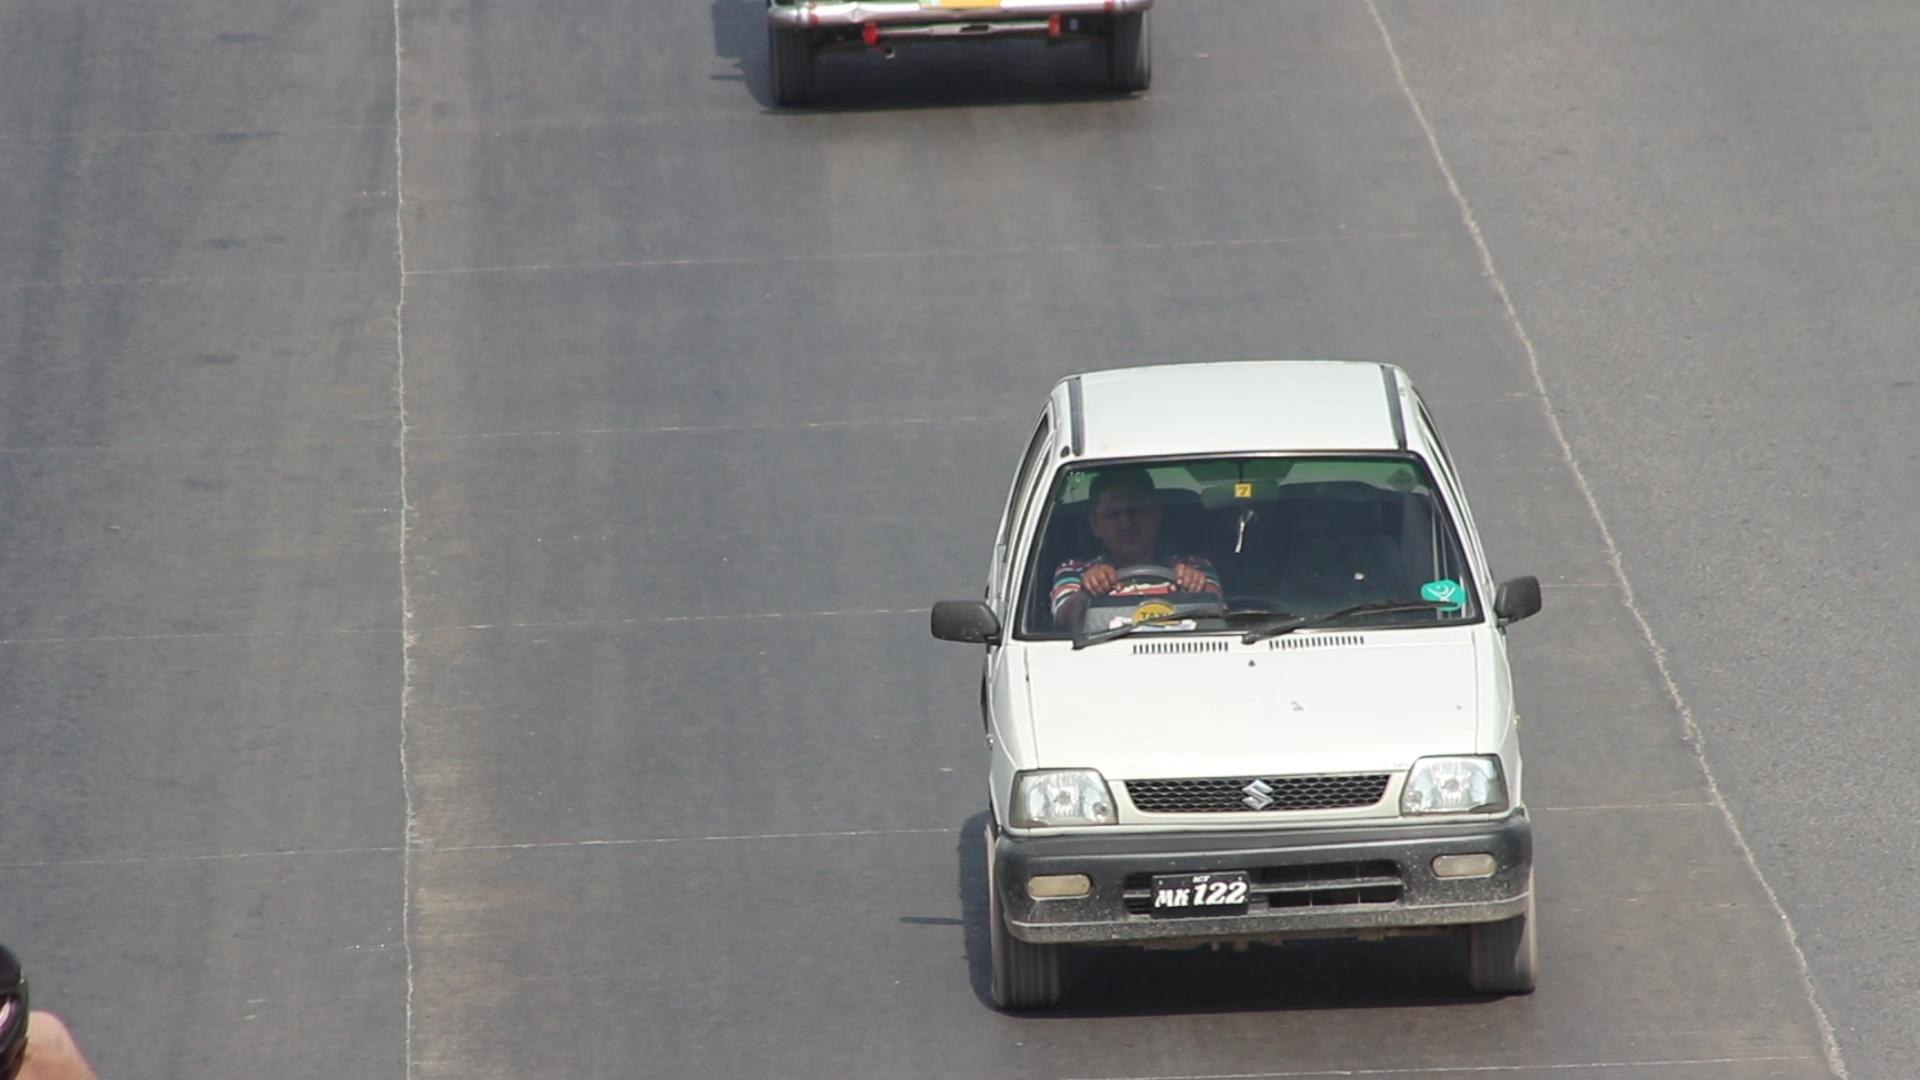windshield: (1007, 436, 1510, 659)
